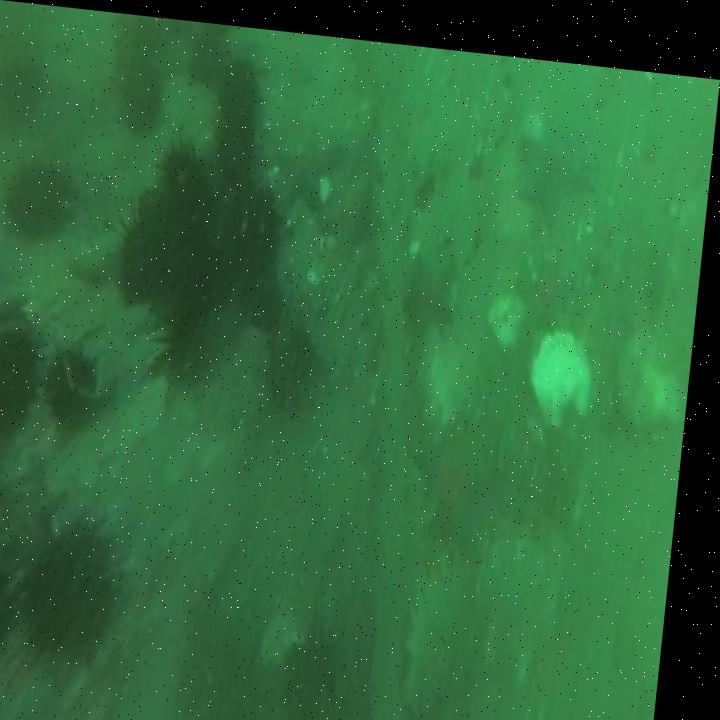echinus: (33, 527, 134, 666), (292, 625, 381, 720), (164, 213, 231, 317), (8, 155, 82, 237), (180, 285, 246, 376), (219, 186, 285, 273), (116, 220, 175, 309), (0, 328, 44, 442), (270, 312, 325, 398), (161, 142, 215, 217), (114, 64, 168, 138), (54, 351, 108, 419), (0, 55, 44, 132), (216, 54, 262, 121), (217, 109, 260, 173), (185, 29, 216, 81), (254, 279, 293, 317), (0, 585, 10, 698)
holothurian: (412, 535, 478, 708)
scallop: (480, 519, 569, 677), (534, 311, 604, 410), (311, 254, 328, 281)
starfish: (421, 400, 505, 539), (514, 108, 601, 213), (275, 114, 342, 207), (405, 233, 464, 330), (517, 239, 580, 322), (327, 158, 380, 244)
